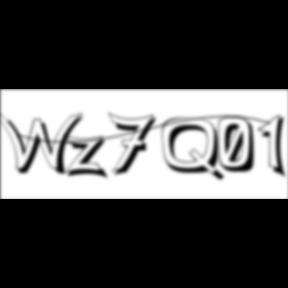0: (218, 115, 262, 174)
7: (108, 111, 162, 179)
Q: (162, 117, 228, 184)
W: (0, 110, 90, 178)
z: (64, 134, 114, 182)
